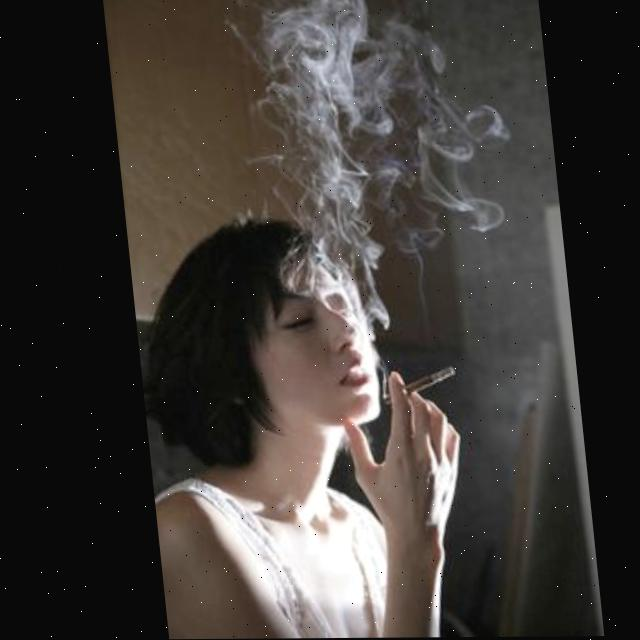cigarette: (370, 368, 447, 402)
